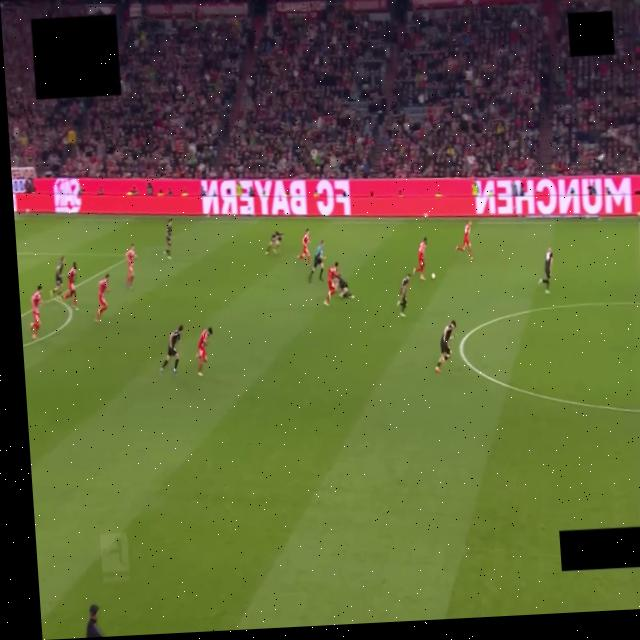ball: (431, 274, 435, 280)
player: (159, 325, 182, 375), (435, 321, 455, 373), (92, 273, 112, 322), (197, 327, 212, 376), (62, 262, 77, 309), (455, 222, 472, 260), (323, 263, 338, 305), (412, 237, 426, 280), (539, 247, 552, 293), (30, 286, 41, 339), (50, 256, 64, 296), (397, 274, 410, 316), (298, 229, 310, 266), (125, 244, 135, 288), (265, 231, 282, 254), (338, 276, 353, 299), (164, 220, 171, 259)
referee: (308, 240, 323, 281)
